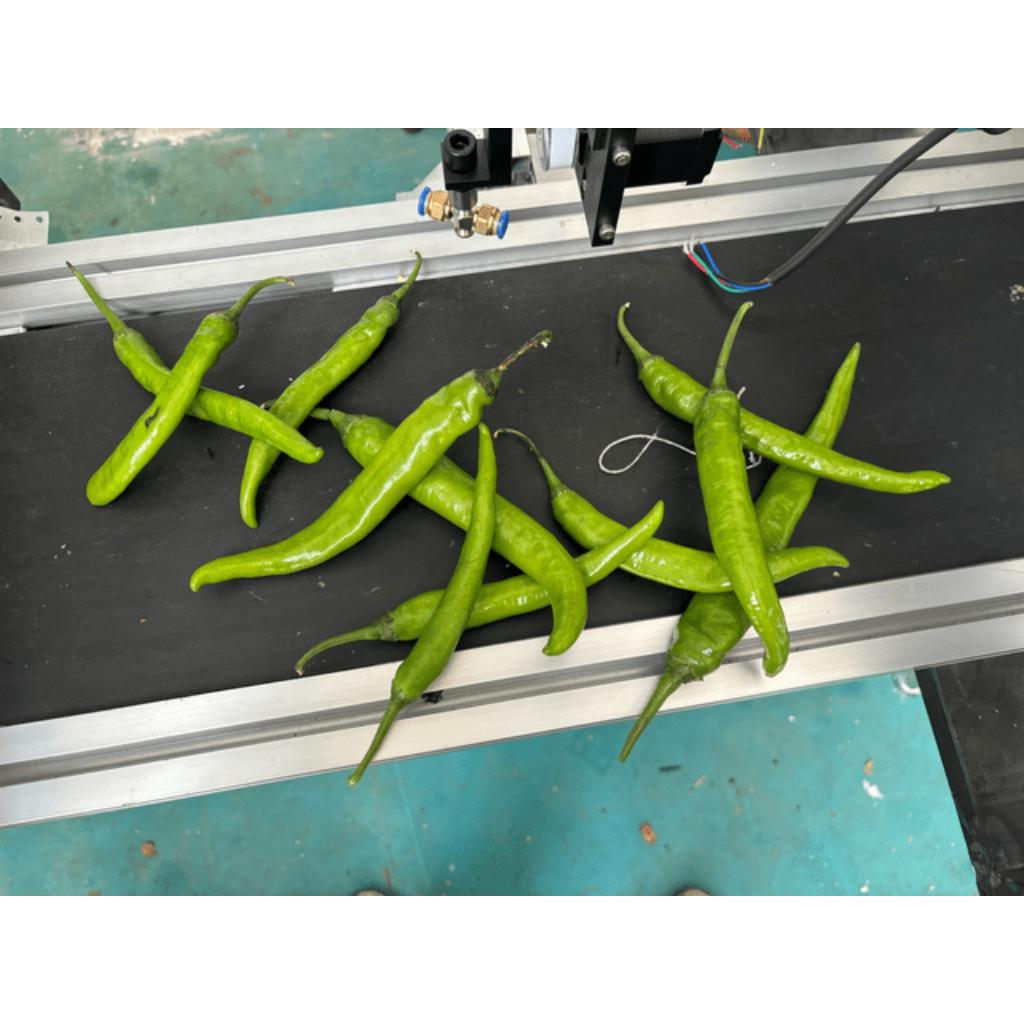chili: (186, 366, 505, 596), (664, 334, 862, 683), (338, 414, 591, 658), (636, 354, 959, 495), (372, 497, 669, 642), (236, 292, 402, 533), (550, 483, 852, 595), (389, 419, 498, 707), (86, 308, 241, 509), (112, 324, 326, 465), (692, 385, 793, 679)
